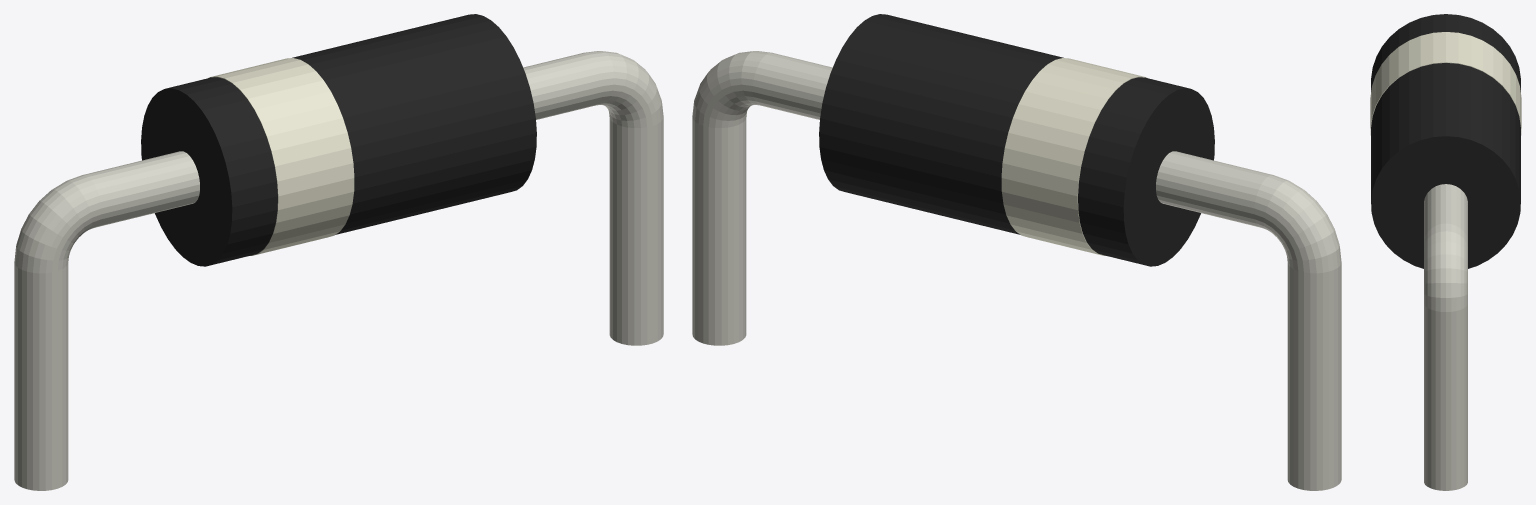
3 views of the same model, side by side, from view 1: azimuth 30°, elevation 25°; view 2: azimuth 150°, elevation 25°; view 3: azimuth 270°, elevation 25° (orthographic). The views are drawn at different scales.
Parts seen in each view (by area): view 1: d1_1, d1_2, d1_0; view 2: d1_1, d1_2, d1_0; view 3: d1_1, d1_2, d1_0.
Part boxes in pixels (x1,y1,x2,y2): d1_1: (141,14,536,266); d1_2: (14,51,663,490); d1_0: (208,58,354,255); d1_1: (819,14,1214,266); d1_2: (692,51,1341,490); d1_0: (1001,58,1147,255); d1_1: (1371,14,1520,268); d1_2: (1424,184,1467,490); d1_0: (1370,32,1521,135).
Size of the model in its own units: 10.96 by 5.71 by 2.72.
